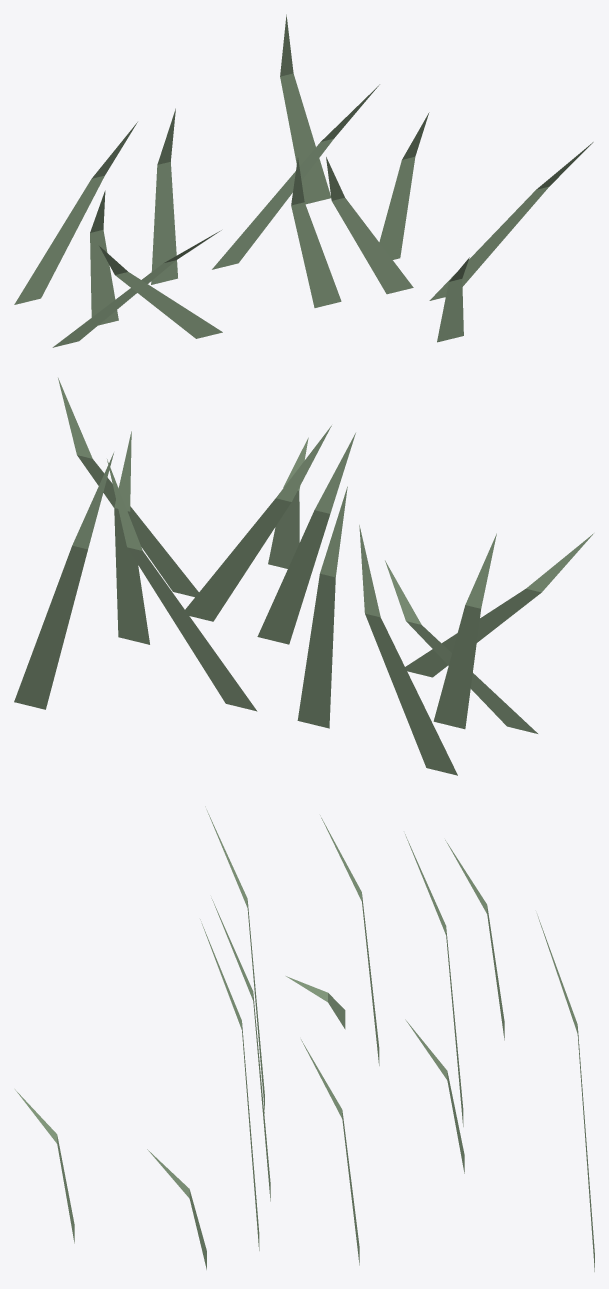
The model's file is roadside_weeds_variant_02.glb.
3 renders of one model, top to bottom at view 1: azimuth 30°, elevation 25°; view 2: azimuth 150°, elevation 25°; view 3: azimuth 270°, elevation 25°, orthographic. The views are drawn at different scales.
Parts seen in each view (by area): view 1: static_leaf_sage; view 2: static_leaf_sage; view 3: static_leaf_sage.
Boxes of the visible parts, x1=… form: static_leaf_sage: x1=14, y1=14, x2=593, y2=347; static_leaf_sage: x1=14, y1=378, x2=593, y2=775; static_leaf_sage: x1=15, y1=806, x2=594, y2=1271.
Size of the model in its own units: 0.9502 by 0.409 by 0.6715.
